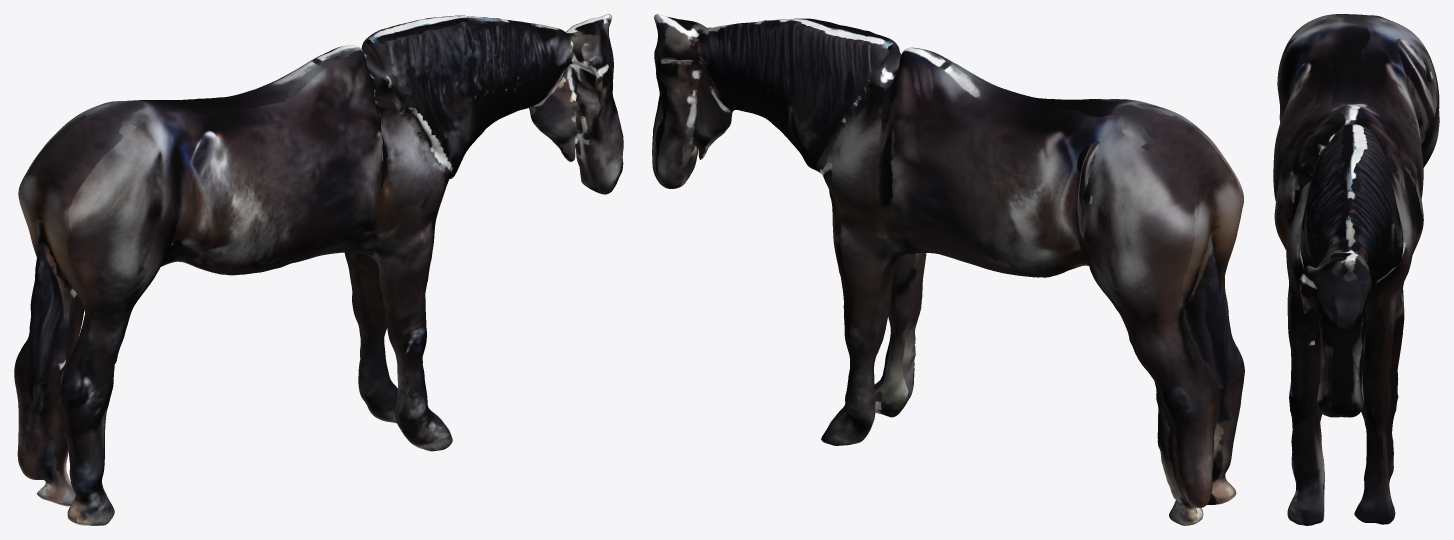
Rendered from joven.glb.
3 views of the same model, side by side, from view 1: azimuth 30°, elevation 25°; view 2: azimuth 150°, elevation 25°; view 3: azimuth 270°, elevation 25° (orthographic). The views are drawn at different scales.
Visible parts, largest first — view 1: mesh; view 2: mesh; view 3: mesh.
Part boxes in pixels (box(x1,y1,x2,y2)): mesh: box(14, 14, 623, 525); mesh: box(652, 14, 1244, 525); mesh: box(1273, 14, 1439, 525).
Bounding box in the file's own units: 1.75 × 1.15 × 0.4545.
1 material, 1 textured.
